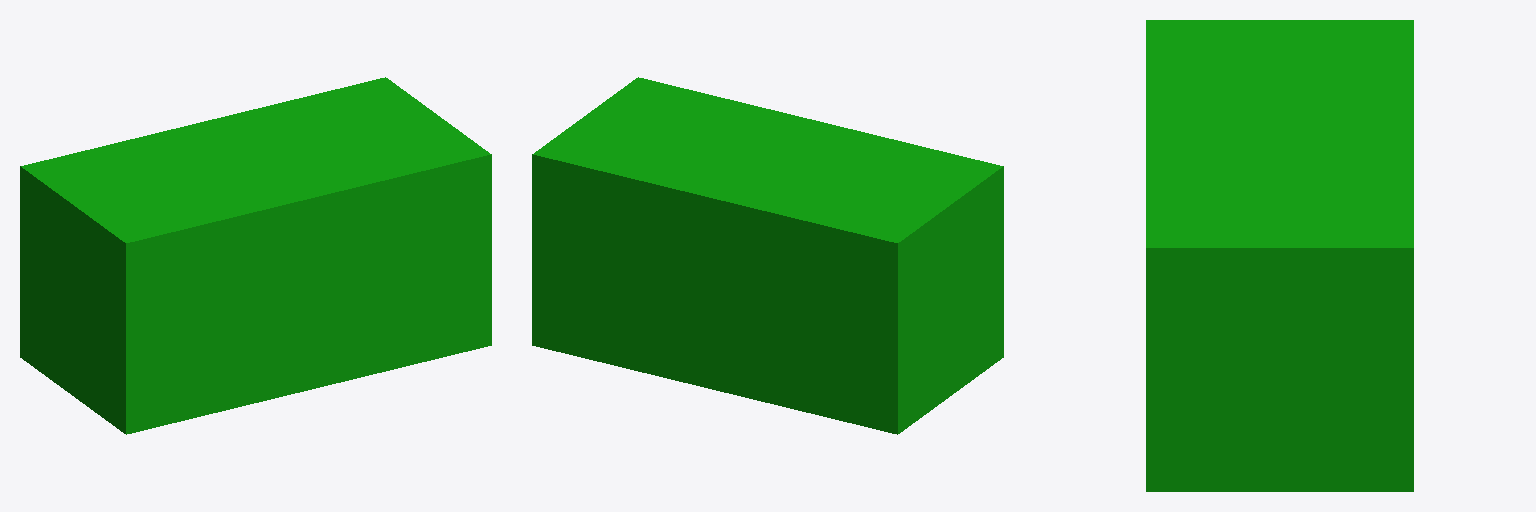
URDF robot description (block_2):
<?xml version="1.0"?>
<robot name="block_2">
  <link concave="no" name="block_2_base_link">
    <contact>
      <lateral_friction value="0.7"/>
      <spinning_friction value=".001"/>
    </contact>
    <inertial>
      <origin rpy="0 0 0" xyz="0 0 0"/>
      <mass value="0.6"/>
      <inertia ixx="0.00025" ixy="0" ixz="0" iyy="0.000625" iyz="0" izz="0.000625"/>
    </inertial> 
    <visual>
      <origin rpy="0 0 0" xyz="0.0 0.0 0.0"/>
      <geometry>
        <box size="0.10 0.05 0.05"/>
      </geometry>
      <material name="blockmat">
        <color rgba="0.1 0.7 0.1 1"/>
      </material>
    </visual>
    <collision>
      <origin rpy="0 0 0" xyz="0.0 0.0 0.0"/>
      <geometry>
        <box size="0.10 0.05 0.05"/>
      </geometry>
    </collision>
  </link>
</robot>

--- What the picture shows (computed from the rendered views, not written in the file) ---
The picture shows the robot from 3 angles, left to right: view 1: azimuth 30°, elevation 25°; view 2: azimuth 150°, elevation 25°; view 3: azimuth 270°, elevation 25°; orthographic projection.
Robot: block_2 — 1 links, 0 joints (none); root link block_2_base_link; default pose: every joint at zero.
Visible links, largest first — view 1: block_2_base_link; view 2: block_2_base_link; view 3: block_2_base_link.
Boxes of the visible links, x1,y1,x2,y2 form: block_2_base_link: (20,77,491,434); block_2_base_link: (532,77,1003,434); block_2_base_link: (1146,20,1413,491).
Size in the robot's own frame: 0.1 by 0.05 by 0.05 metres.
Geometry: primitives only (box / cylinder / sphere), no mesh files.